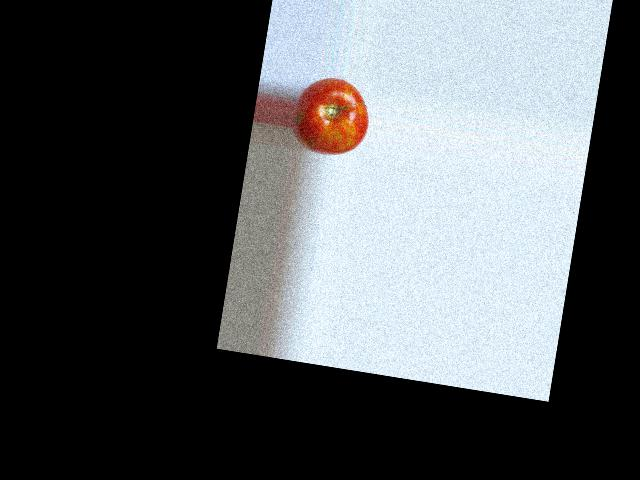tomato: (289, 72, 374, 160)
